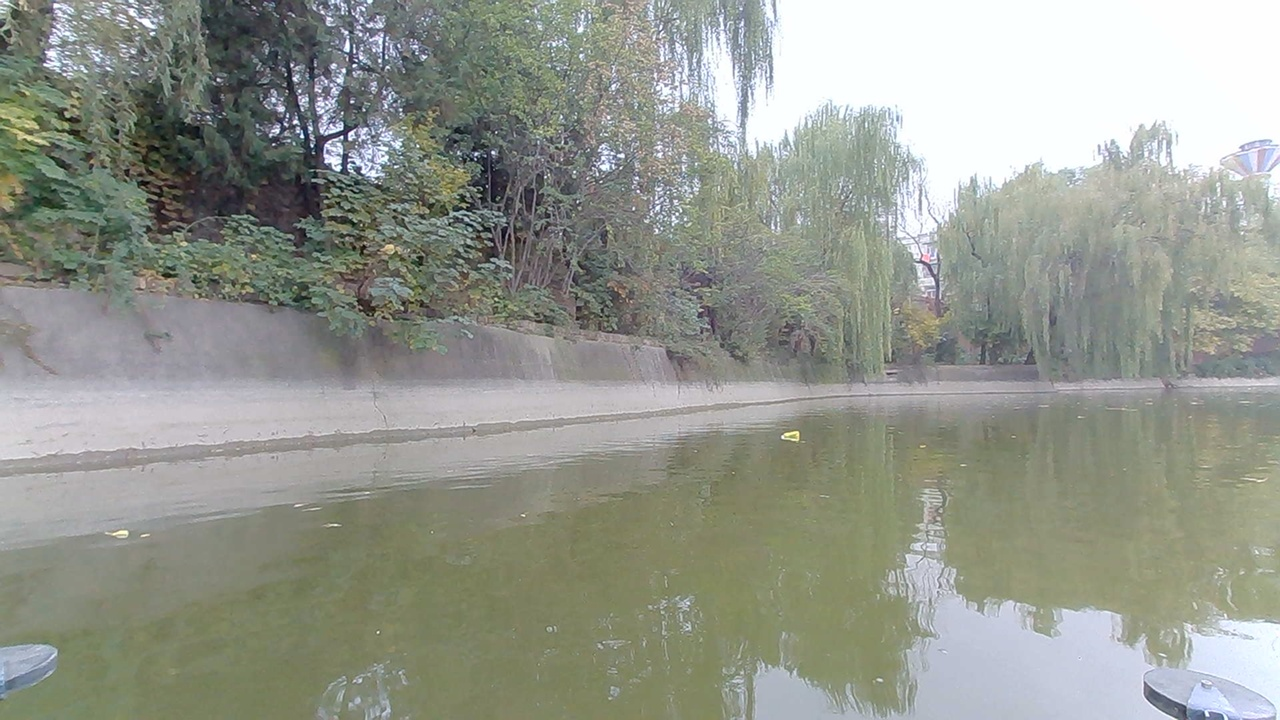bottle: (776, 425, 810, 448)
